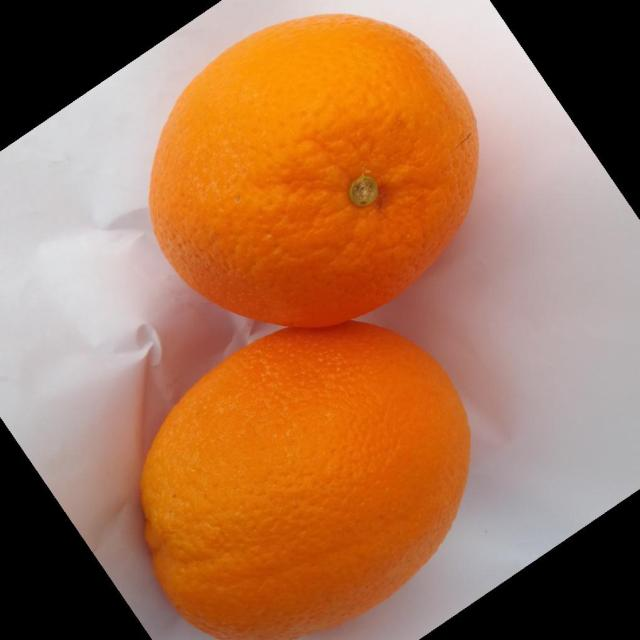fresh orange: (138, 319, 471, 638), (147, 12, 480, 328)
